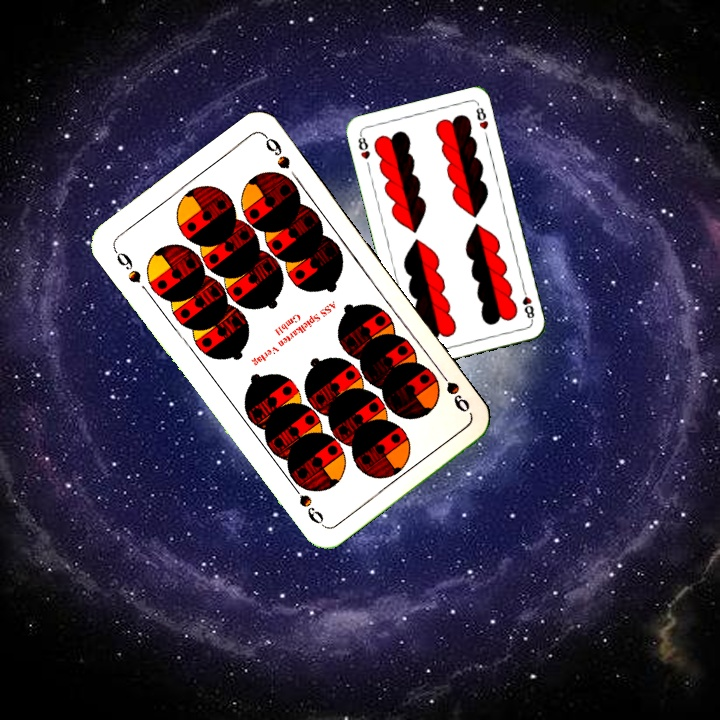H8: (518, 284, 537, 324), (354, 130, 373, 162)
S9: (429, 364, 473, 415), (109, 244, 144, 286)
